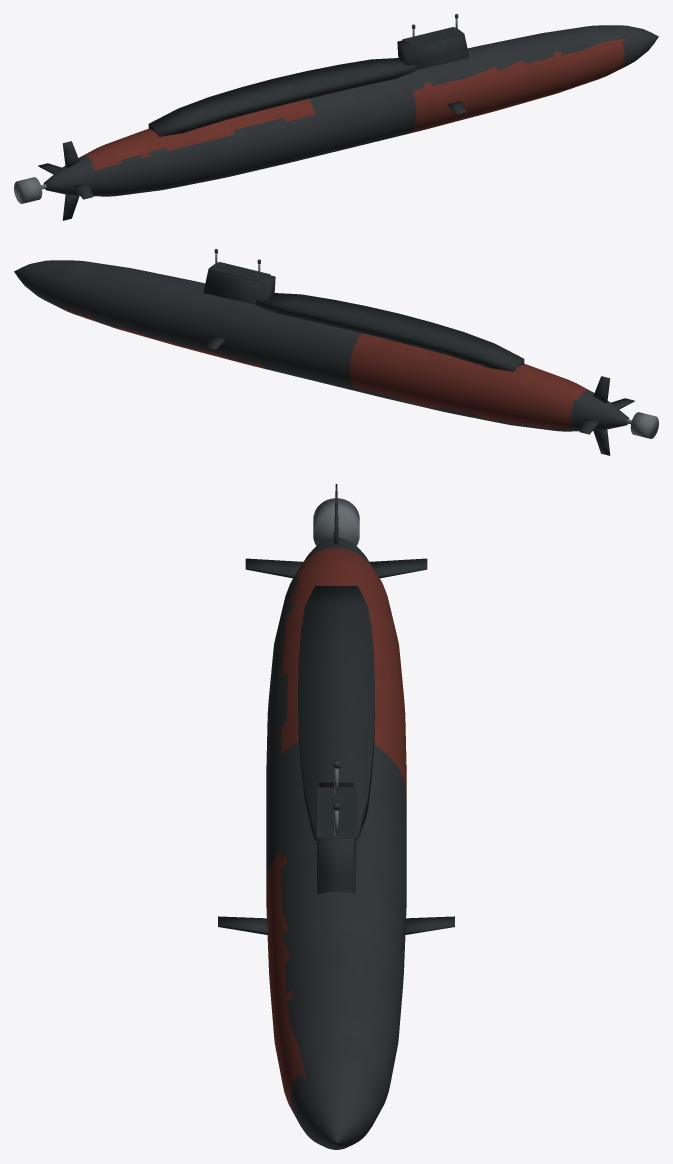
The model's file is IN_SSBN_Arighaat_LOD1.fbx.
3 renders of one model, top to bottom at view 1: azimuth 30°, elevation 25°; view 2: azimuth 150°, elevation 25°; view 3: azimuth 270°, elevation 25°, orthographic. The views are drawn at different scales.
Visible parts, largest first — view 1: IN_SSBN_Arighaat_LOD1; view 2: IN_SSBN_Arighaat_LOD1; view 3: IN_SSBN_Arighaat_LOD1.
Boxes of the visible parts, left/top/right/bottom form: IN_SSBN_Arighaat_LOD1: left=14, top=14, right=658, bottom=220; IN_SSBN_Arighaat_LOD1: left=14, top=249, right=658, bottom=455; IN_SSBN_Arighaat_LOD1: left=218, top=484, right=454, bottom=1149.
Size of the model in its own units: 116 by 18.57 by 19.
Materials: 6 (1 with a texture image).
